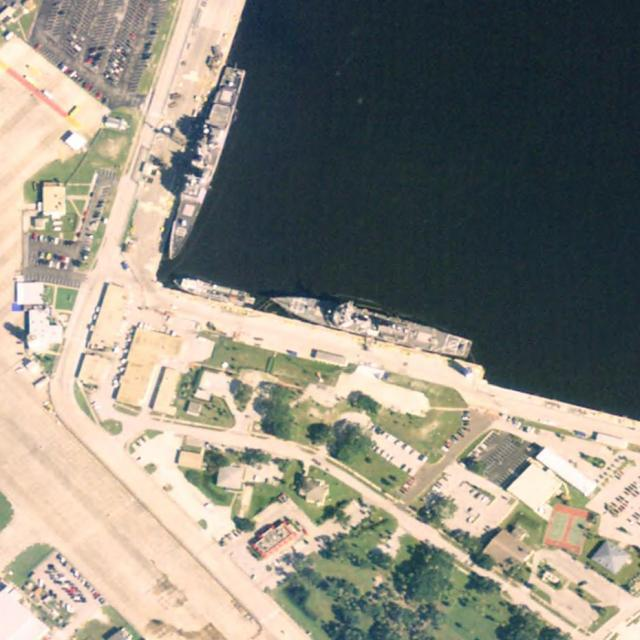Cruiser: (160, 64, 248, 262)
Destroyer: (266, 286, 473, 359)
Other Ship: (171, 274, 258, 310)
